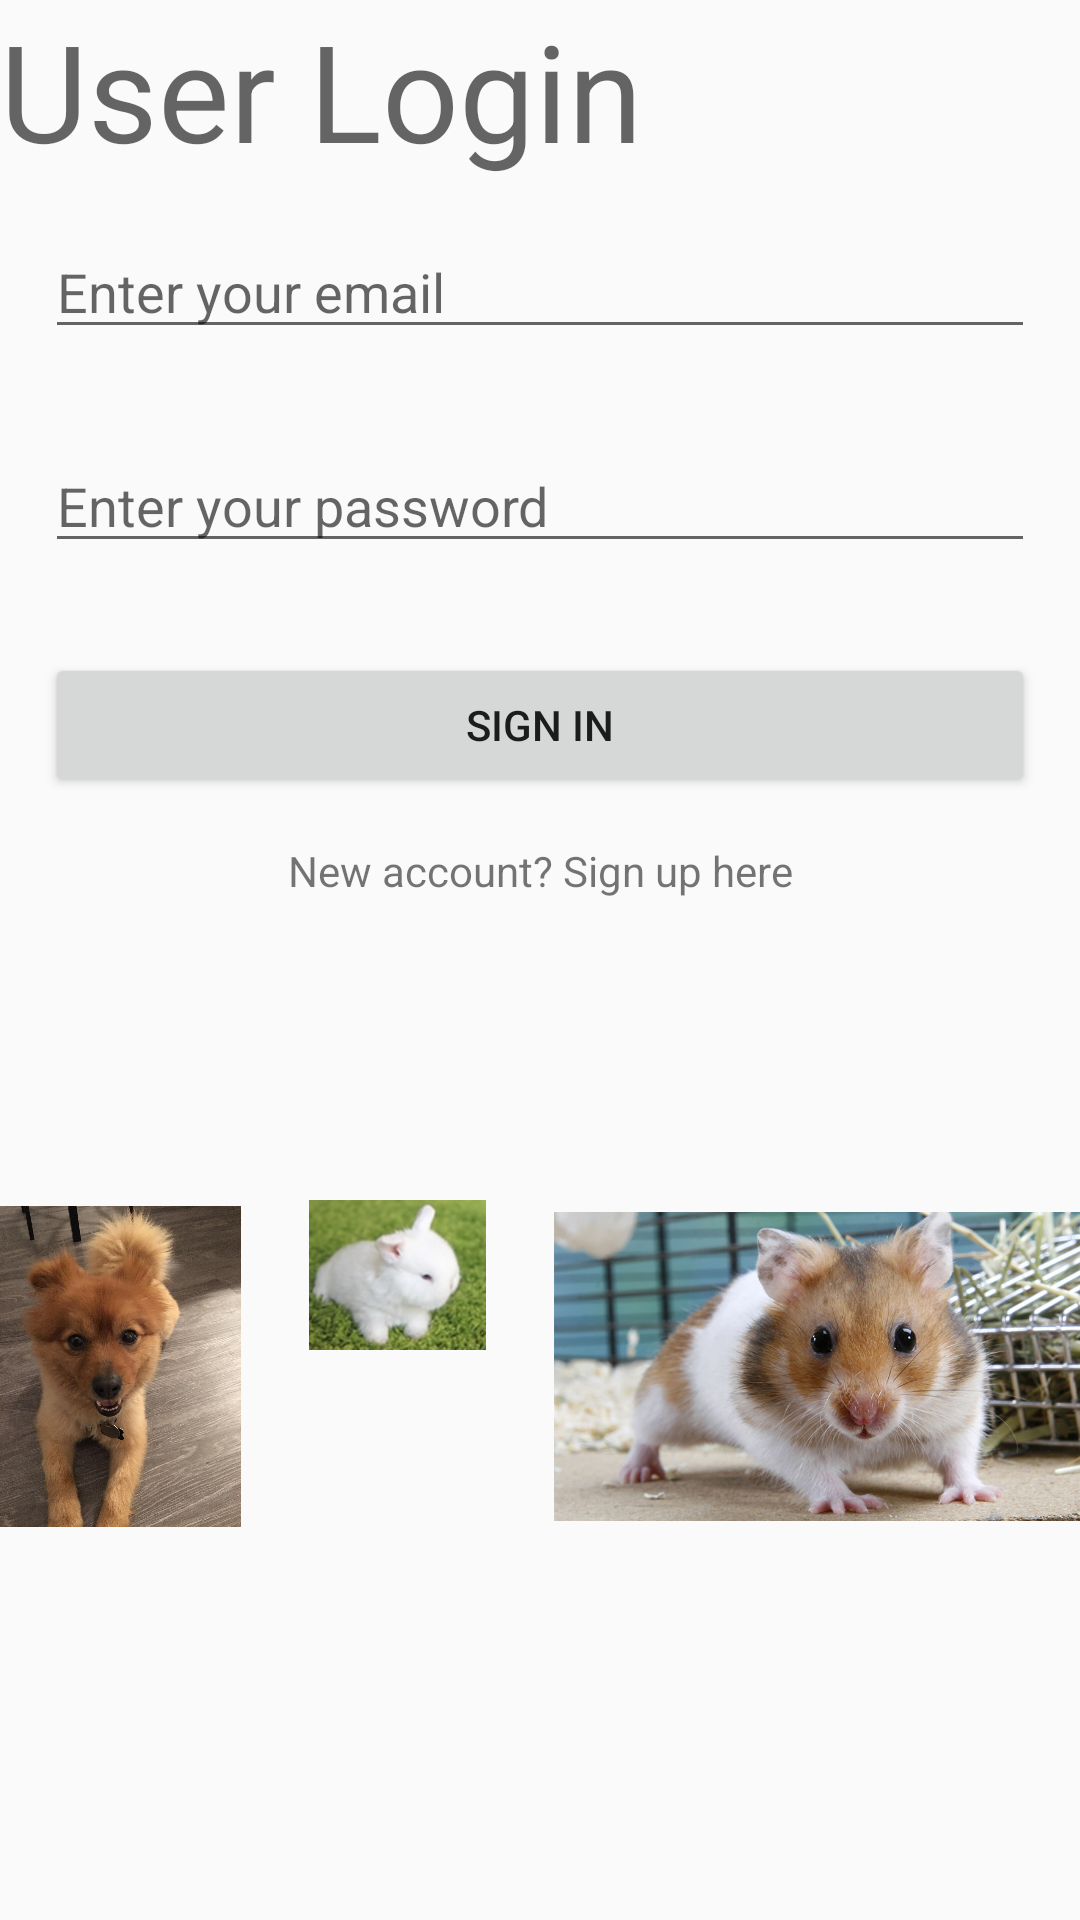

Icons on this 1080px×1920px Android screen, each with the point to tap as point (x, y):
bunny: point (397, 1275)
